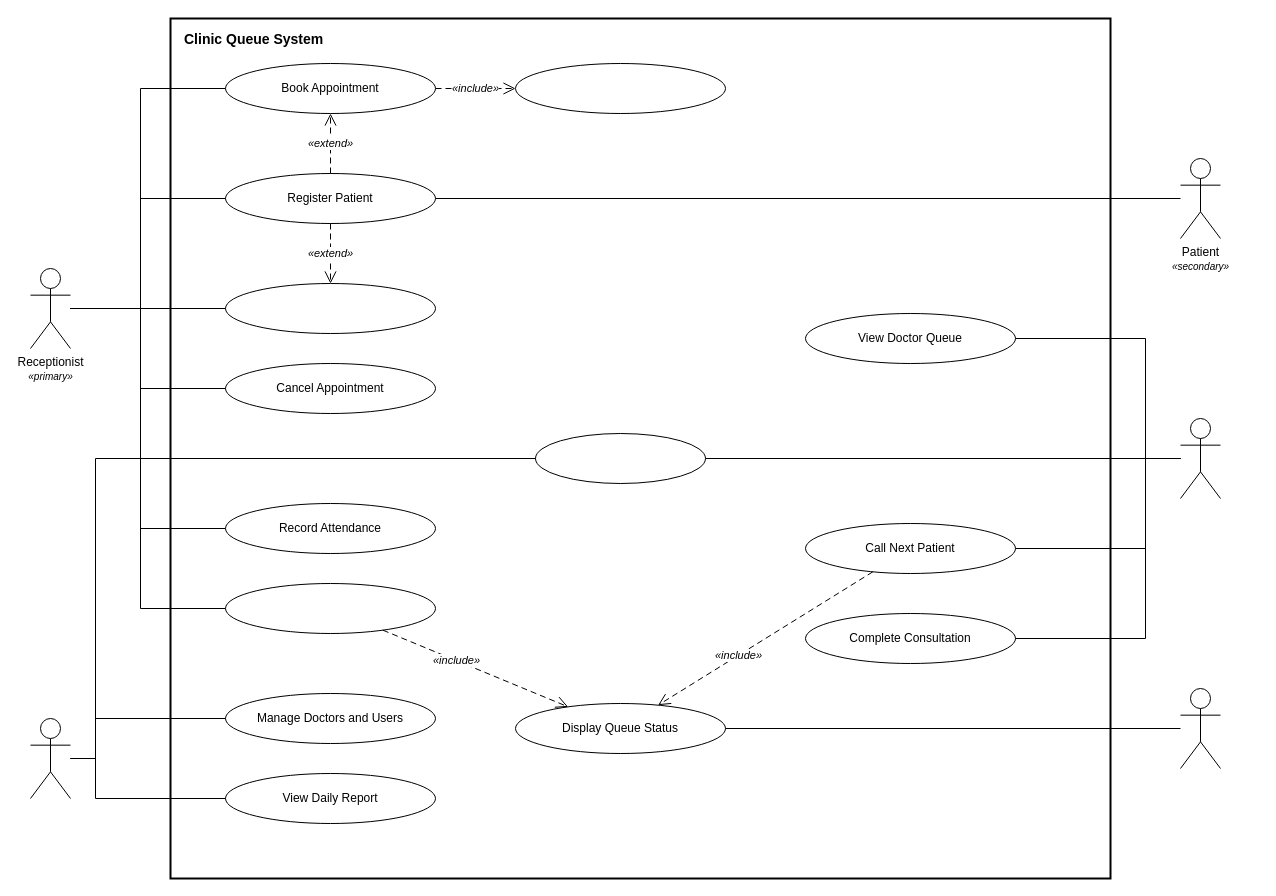
The diagram is 1276 pixels wide and 896 high, and some of its shapes have lost their labels. Here are the shapes that lost their labels. From the top down, the box of each, then its label:
(514, 62, 726, 114): Check Doctor Availability
(224, 282, 436, 334): Add Walk-In to Queue
(534, 432, 706, 484): Log In
(1180, 418, 1220, 498): Doctor «primary»
(224, 582, 436, 634): Remove Departed Patient
(1180, 688, 1220, 768): Waiting-Room Display «secondary»
(30, 718, 70, 798): Owner «primary»
